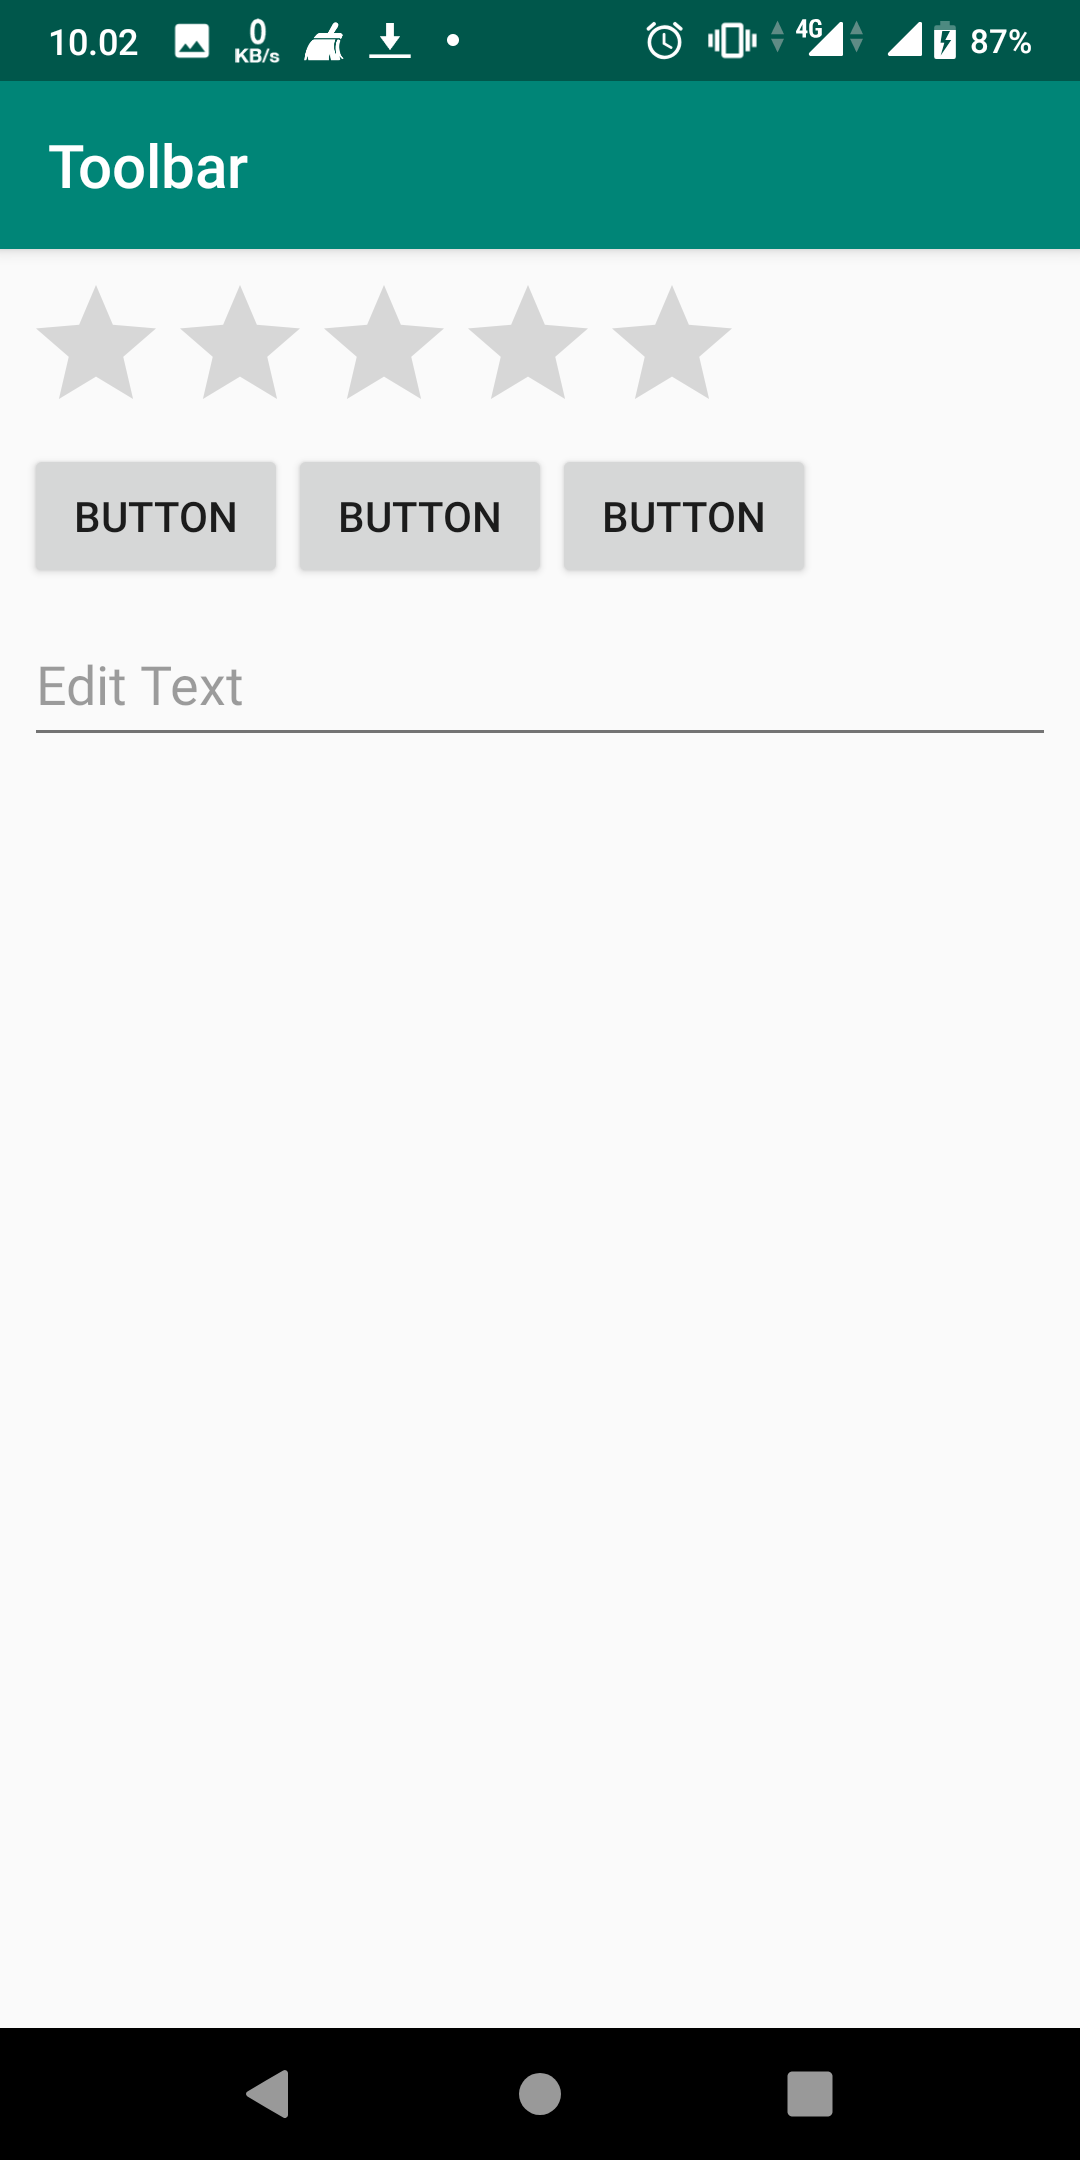button: (554, 450, 820, 583), (291, 455, 551, 583), (28, 461, 287, 577)
editText: (19, 643, 1061, 760)
ratingBar: (32, 273, 751, 419)
toolbar: (6, 85, 1079, 245)
